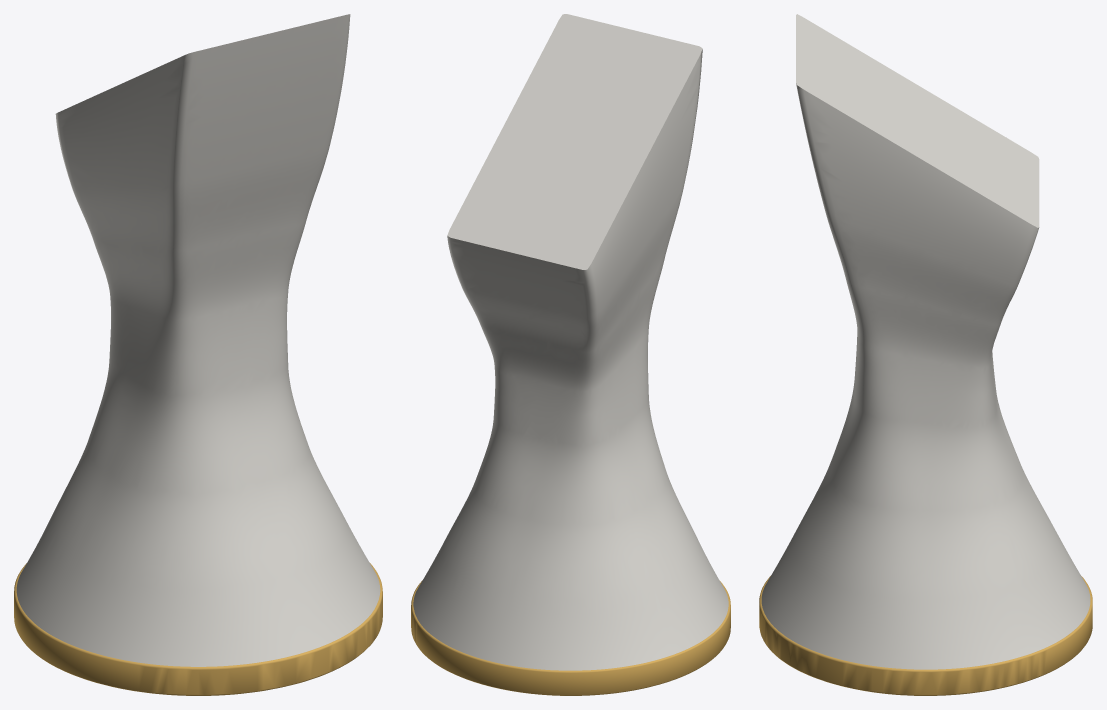
Rendered from knight-white-hd.glb.
The picture shows the model from 3 angles, left to right: view 1: azimuth 30°, elevation 25°; view 2: azimuth 150°, elevation 25°; view 3: azimuth 270°, elevation 25°; orthographic projection. The views are drawn at different scales.
Parts seen in each view (by area): view 1: 03_jezdec_telo_0, 03_jezdec_podstavec; view 2: 03_jezdec_telo_0, 03_jezdec_podstavec; view 3: 03_jezdec_telo_0, 03_jezdec_podstavec.
Part boxes in pixels (left/top/right/bottom): 03_jezdec_telo_0: left=16, top=14, right=380, bottom=666; 03_jezdec_podstavec: left=14, top=563, right=382, bottom=695; 03_jezdec_telo_0: left=413, top=14, right=728, bottom=670; 03_jezdec_podstavec: left=411, top=580, right=730, bottom=695; 03_jezdec_telo_0: left=761, top=14, right=1090, bottom=669; 03_jezdec_podstavec: left=759, top=576, right=1092, bottom=695.
Size of the model in its own units: 0.7278 by 1.39 by 0.7279.
